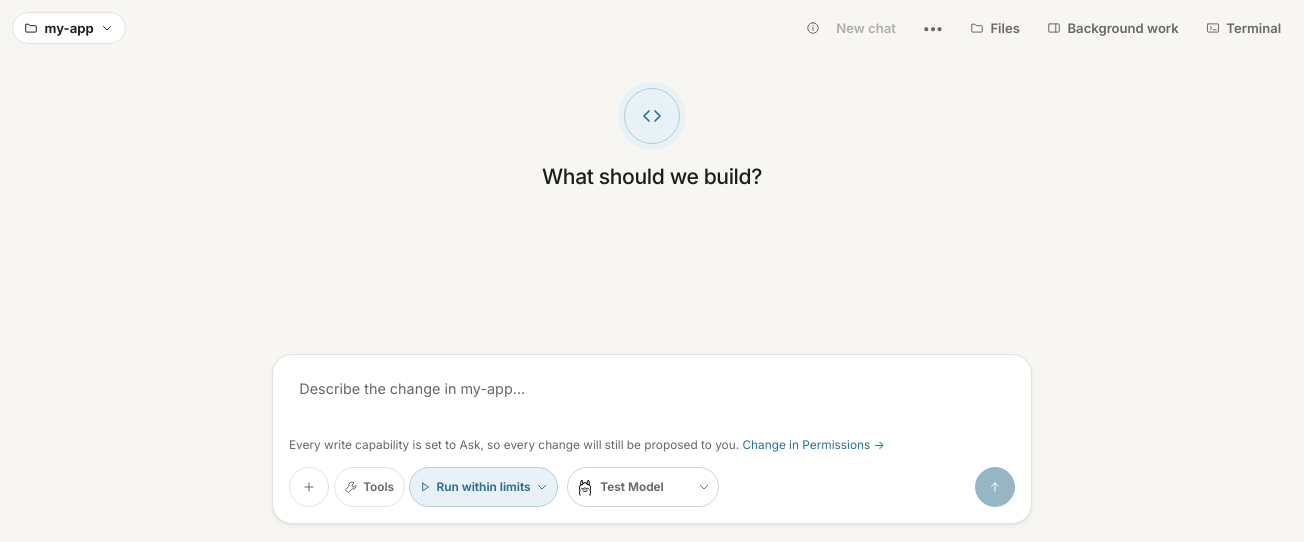
Test: Build's artifact zone › lists what a commit would record, and counts it once on the tab
Click the button named "Add to this turn": [309, 487] box [289,467,329,507]
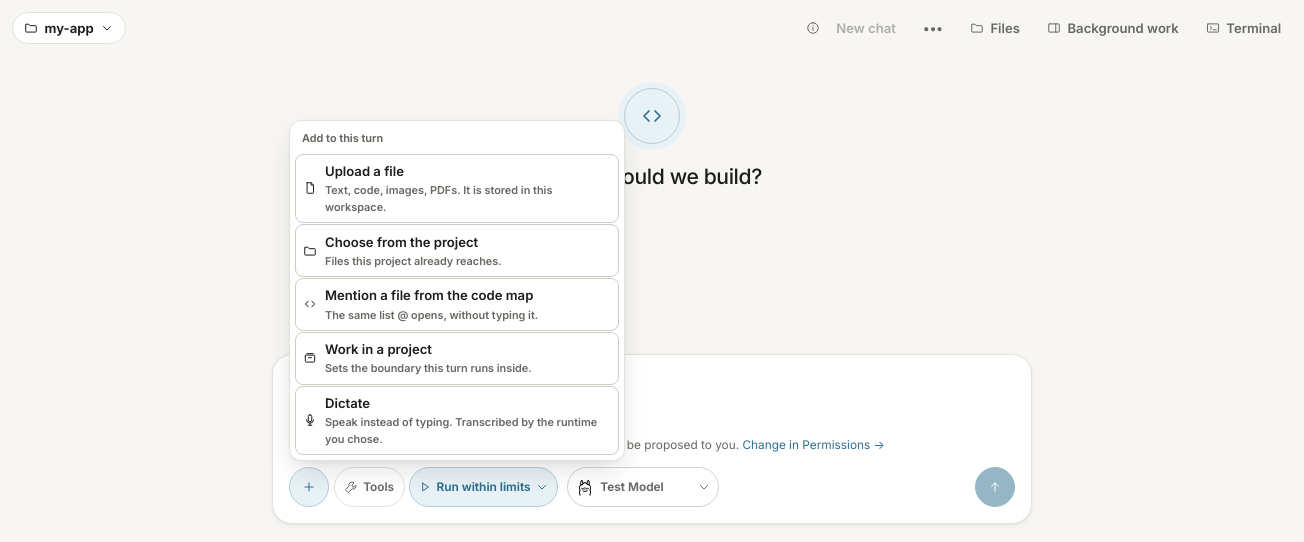
Click the menu item "Work in a project": [378, 349] box [295,332,619,385]
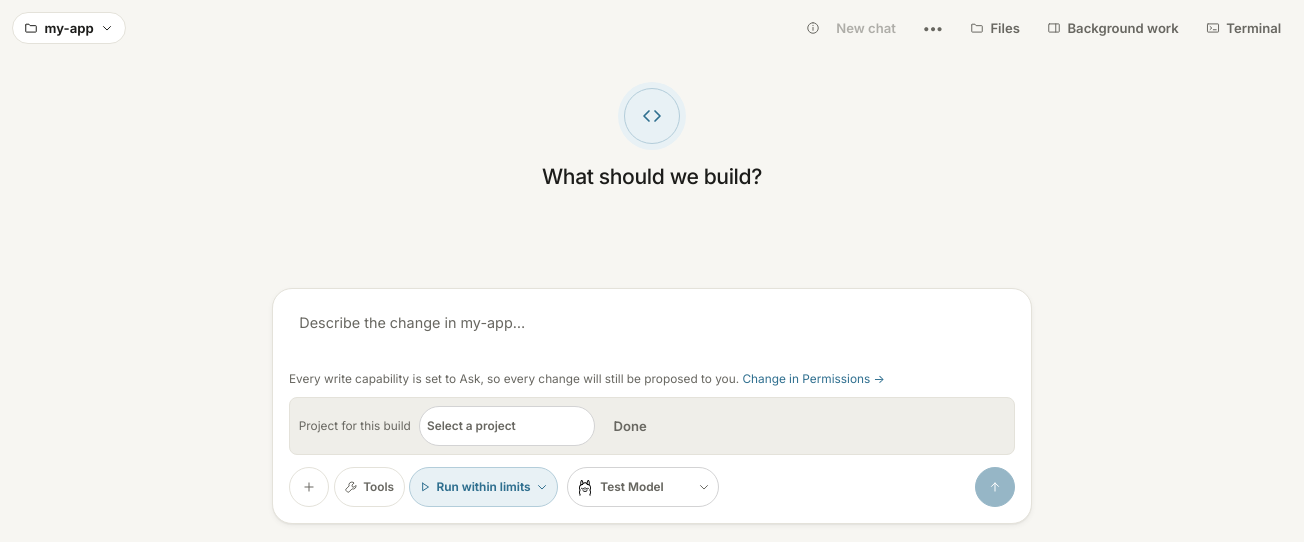
Select "Landing page" in the dropdown labelled "Project for this build": [507, 426] box [419,406,595,446]
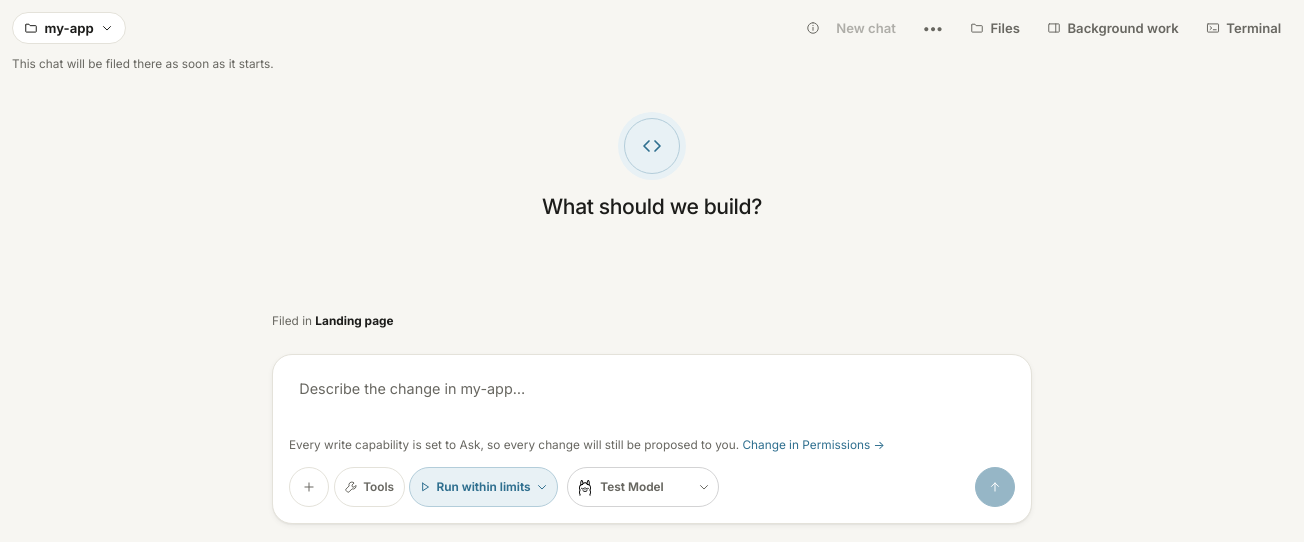
Click the button "Background work": [1113, 28] box [1036,12,1190,44]
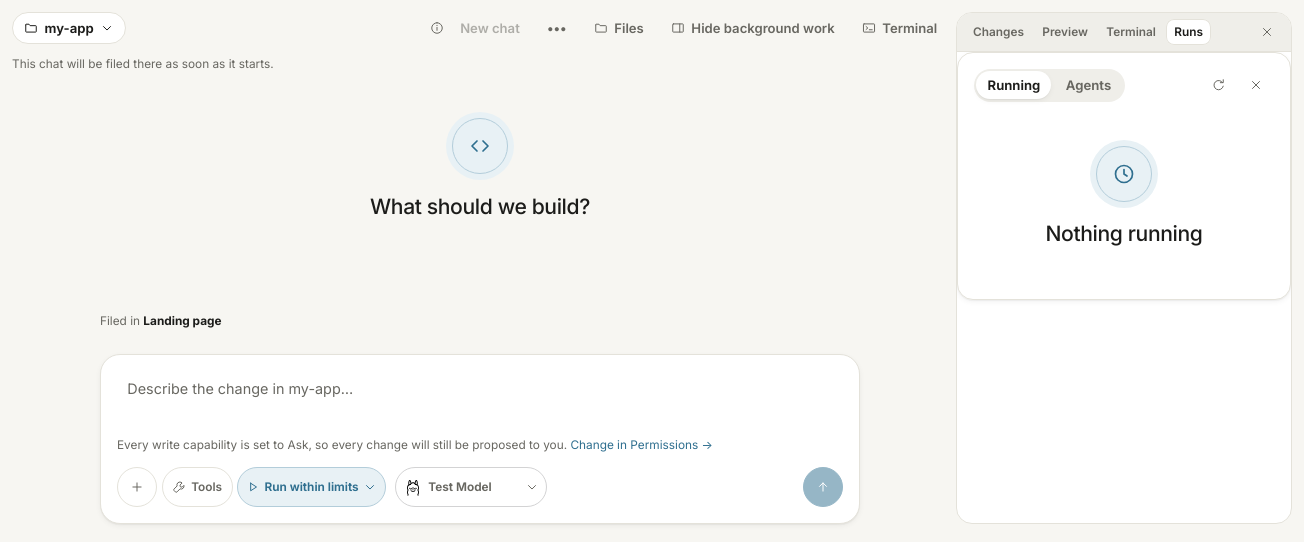
Click the tab "Changes": [998, 32] box [965,19,1032,45]
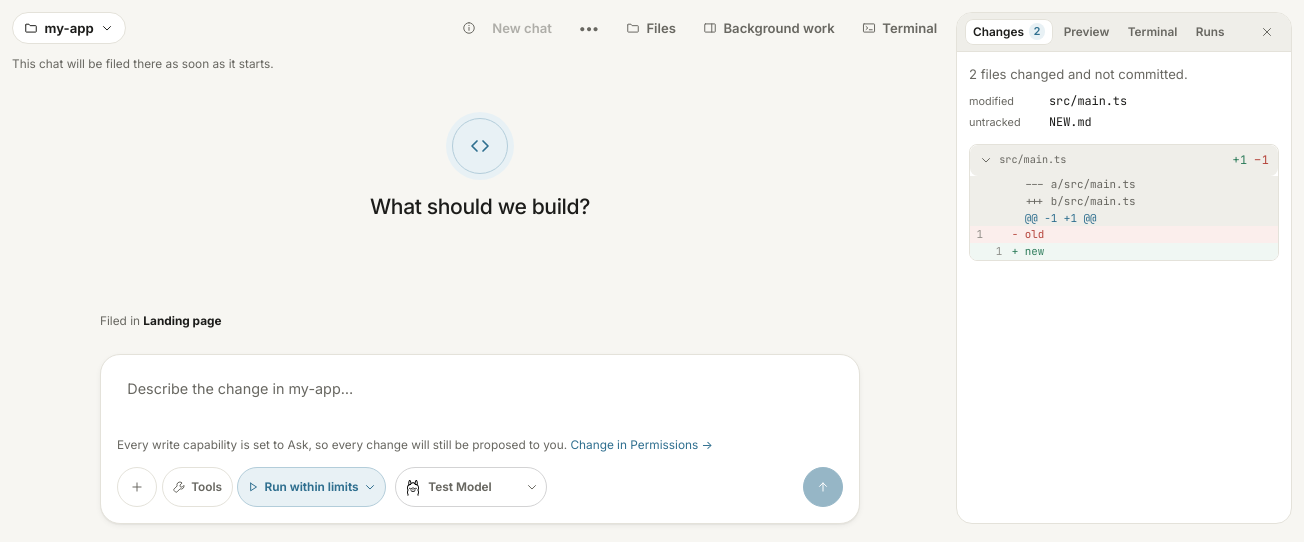
Expected: the text "2 files changed and not committed." is shown, [969,66,1188,82]
Expected: the text "src/main.ts" next to "modified" is shown, [1049,93,1127,109]
Expected: the text "NEW.md" is shown, [1049,113,1092,132]
